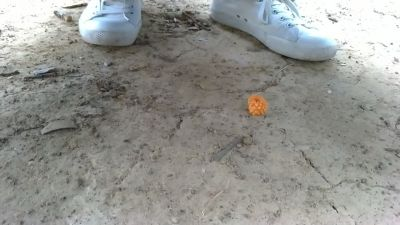eggs: (247, 93, 272, 116)
